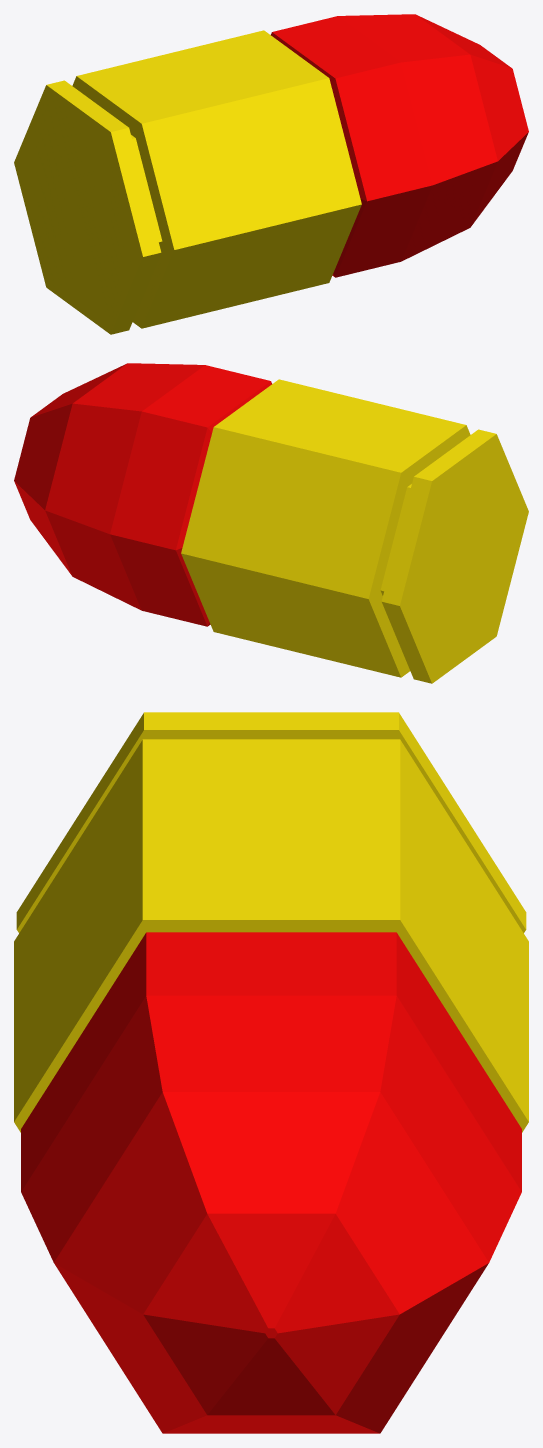
Rendered from bullet.fbx.
The picture shows the model from 3 angles, top to bottom: view 1: azimuth 30°, elevation 25°; view 2: azimuth 150°, elevation 25°; view 3: azimuth 270°, elevation 25°; orthographic projection. The views are drawn at different scales.
Visible parts, largest first — view 1: bullet; view 2: bullet; view 3: bullet.
Boxes of the visible parts, x1,y1,x2,y2 form: bullet: [14, 14, 528, 334]; bullet: [14, 363, 528, 683]; bullet: [14, 712, 528, 1433].
Bounding box in the file's own units: 24.07 × 10.77 × 12.44.
